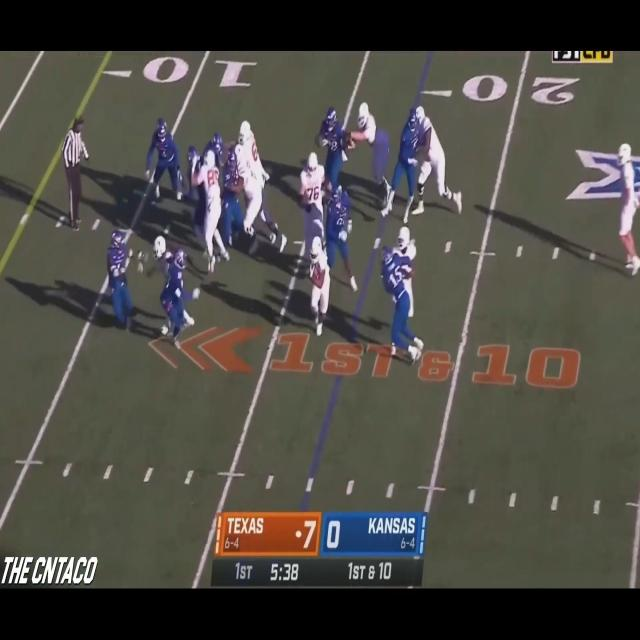football: (310, 266, 320, 282)
players: (408, 104, 466, 222), (238, 118, 286, 243), (378, 248, 424, 372), (345, 102, 395, 214), (382, 114, 428, 229), (194, 145, 230, 286), (147, 238, 194, 334), (235, 148, 278, 252), (323, 188, 361, 298), (158, 245, 196, 349), (99, 230, 137, 334), (614, 143, 640, 282), (296, 154, 327, 270), (146, 120, 184, 212), (317, 110, 349, 208), (392, 228, 416, 357), (305, 241, 331, 343), (224, 146, 243, 253), (204, 132, 228, 189)
